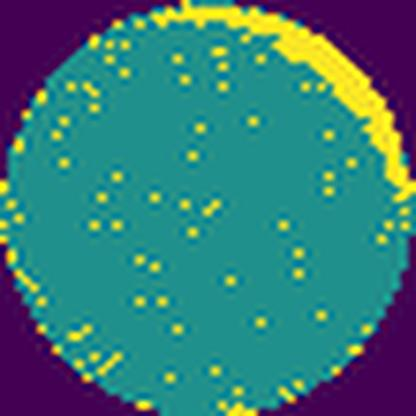Edge-Loc: (141, 0, 415, 200)
